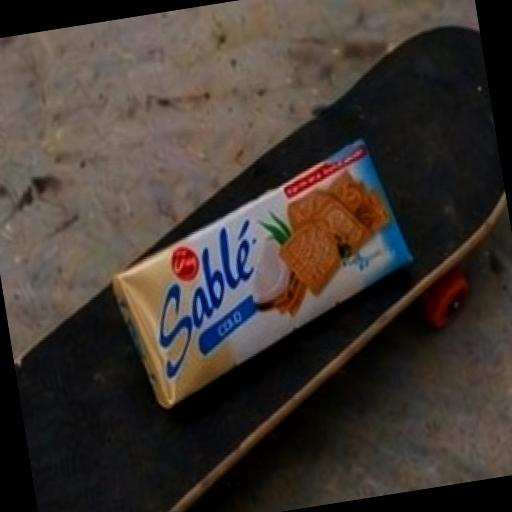sable: (58, 112, 452, 417)
